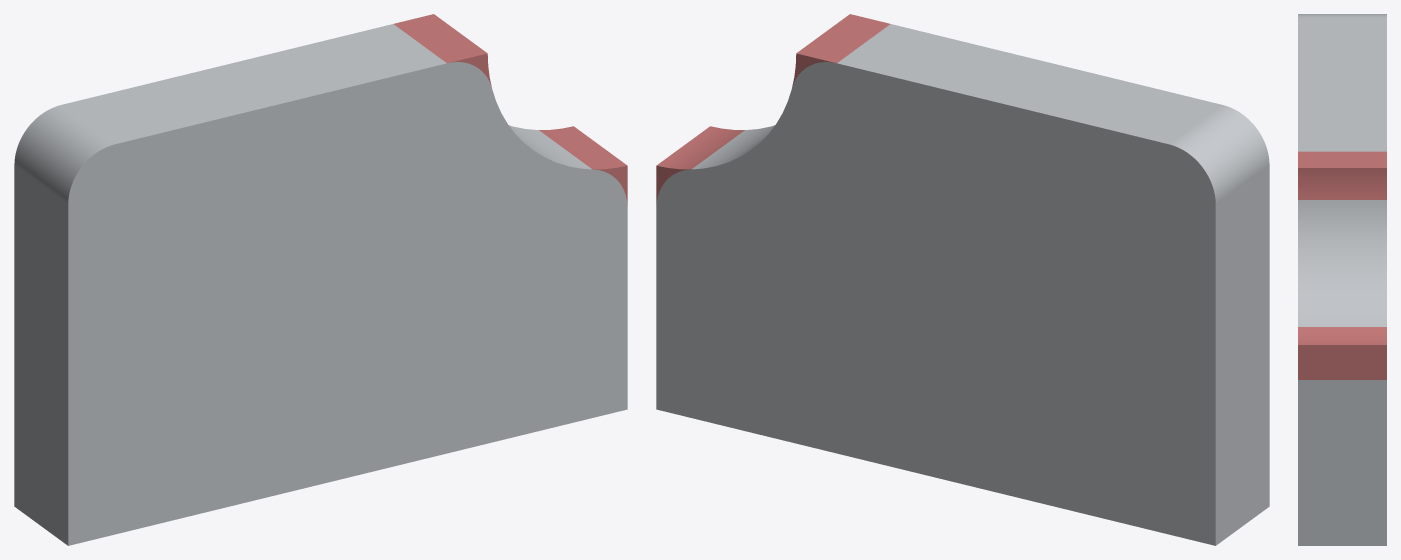
File: step_04.glb
3 views of the same model, side by side, from view 1: azimuth 30°, elevation 25°; view 2: azimuth 150°, elevation 25°; view 3: azimuth 270°, elevation 25° (orthographic). The views are drawn at different scales.
Parts seen in each view (by area): view 1: part__radius plate, removed__radius plate; view 2: part__radius plate, removed__radius plate; view 3: part__radius plate, removed__radius plate.
Boxes of the visible parts, x1,y1,x2,y2 form: part__radius plate: (14, 24, 627, 545); removed__radius plate: (394, 14, 627, 205); part__radius plate: (656, 24, 1269, 545); removed__radius plate: (656, 14, 889, 205); part__radius plate: (1298, 14, 1386, 545); removed__radius plate: (1298, 151, 1386, 379).
Bounding box in the file's own units: 60 × 40 × 10.
